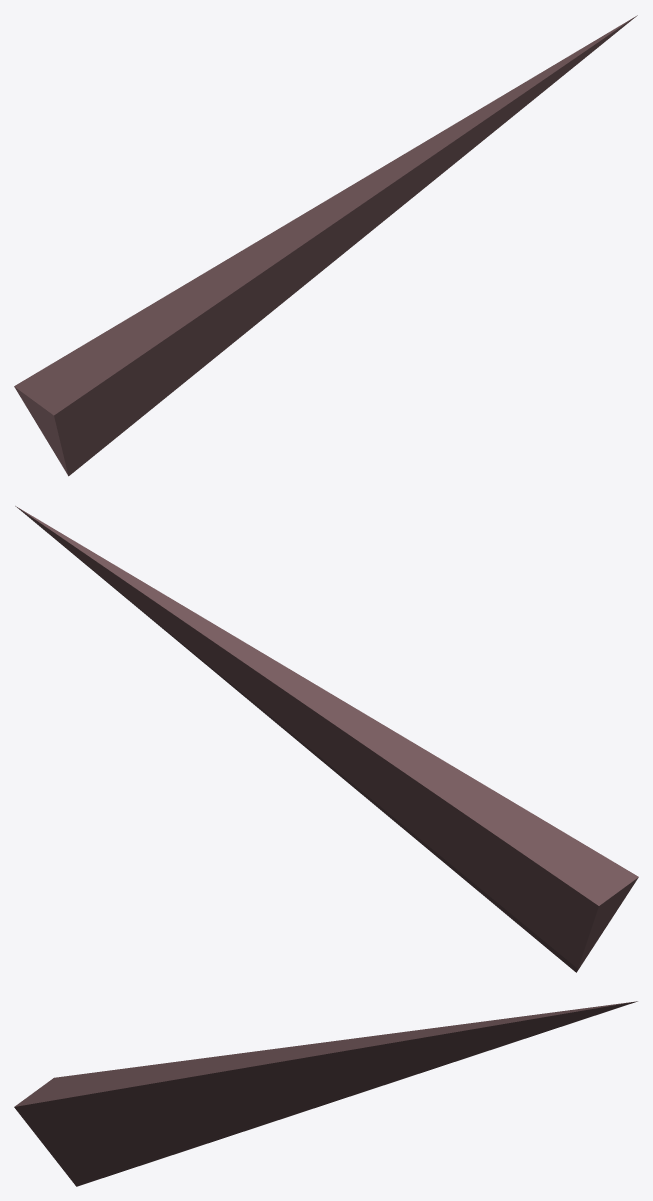
File: blad.DAE
3 views of the same model, one above another, from view 1: azimuth 30°, elevation 25°; view 2: azimuth 150°, elevation 25°; view 3: azimuth 330°, elevation 25° (orthographic).
Parts seen in each view (by area): view 1: Blade3; view 2: Blade3; view 3: Blade3.
Boxes of the visible parts, left/top/right/bottom form: Blade3: left=14, top=15, right=637, bottom=476; Blade3: left=15, top=506, right=638, bottom=972; Blade3: left=14, top=1001, right=637, bottom=1186.
Size of the model in its own units: 51.58 by 26.63 by 5.9.
